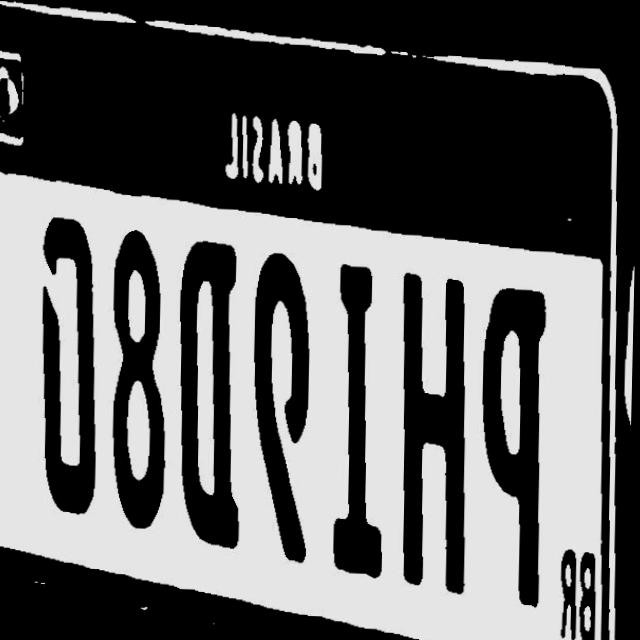0: (29, 209, 102, 516)
8: (97, 222, 176, 534)
9: (253, 241, 324, 567)
d: (170, 229, 250, 558)
h: (401, 261, 485, 595)
i: (332, 257, 396, 586)
p: (487, 282, 559, 611)
